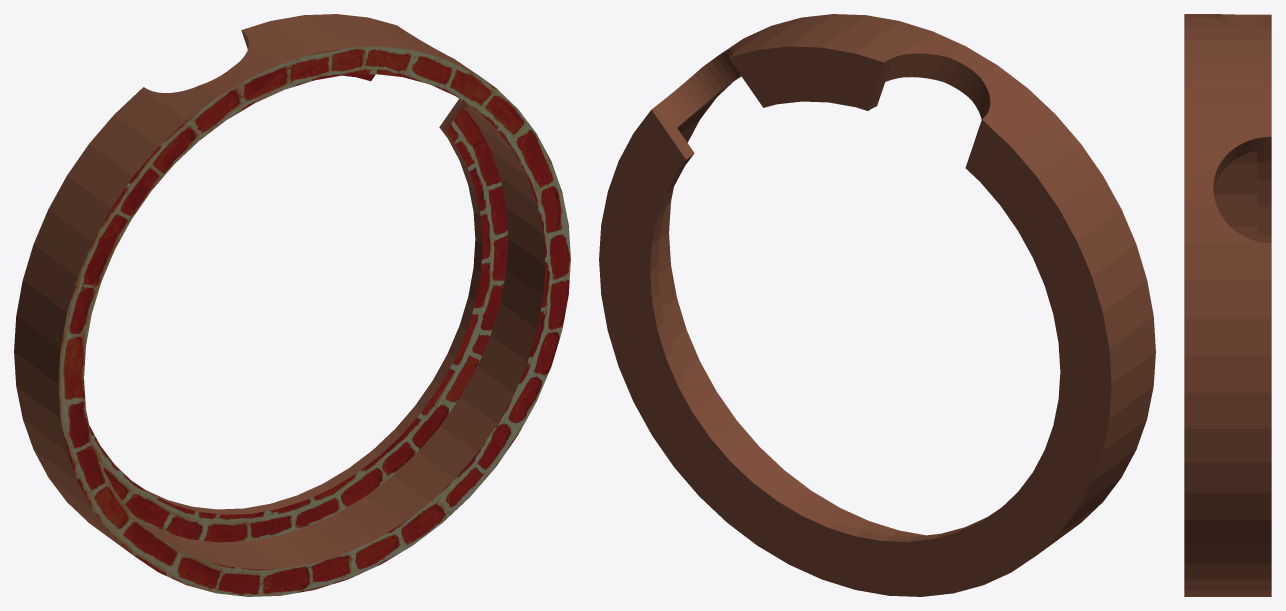
File: pool_030.obj
3 renders of one model, left to right at view 1: azimuth 30°, elevation 25°; view 2: azimuth 150°, elevation 25°; view 3: azimuth 270°, elevation 25°, orthographic.
Size of the model in its own units: 20 by 20 by 3.
